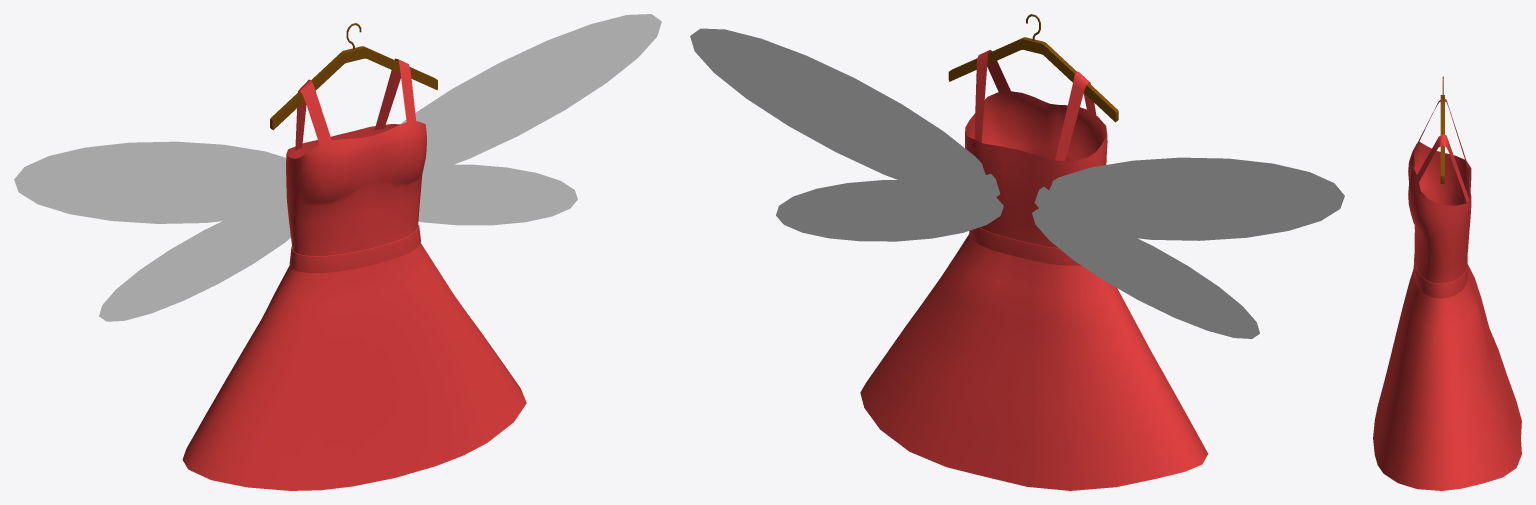
Rendered from dress_NN.fbx.
3 views of the same model, side by side, from view 1: azimuth 30°, elevation 25°; view 2: azimuth 150°, elevation 25°; view 3: azimuth 270°, elevation 25° (orthographic). The views are drawn at different scales.
Parts seen in each view (by area): view 1: dress_NN, wings_NN, hanger_NN; view 2: dress_NN, wings_NN, hanger_NN; view 3: dress_NN, hanger_NN.
Part boxes in pixels (bbox=[...]): dress_NN: bbox=[182, 58, 526, 490]; wings_NN: bbox=[14, 14, 661, 321]; hanger_NN: bbox=[270, 23, 437, 130]; dress_NN: bbox=[860, 50, 1208, 490]; wings_NN: bbox=[690, 28, 1344, 338]; hanger_NN: bbox=[948, 14, 1118, 122]; dress_NN: bbox=[1373, 99, 1521, 490]; hanger_NN: bbox=[1440, 76, 1444, 184].
Size of the model in its own units: 0.9756 by 0.6106 by 0.2283.
